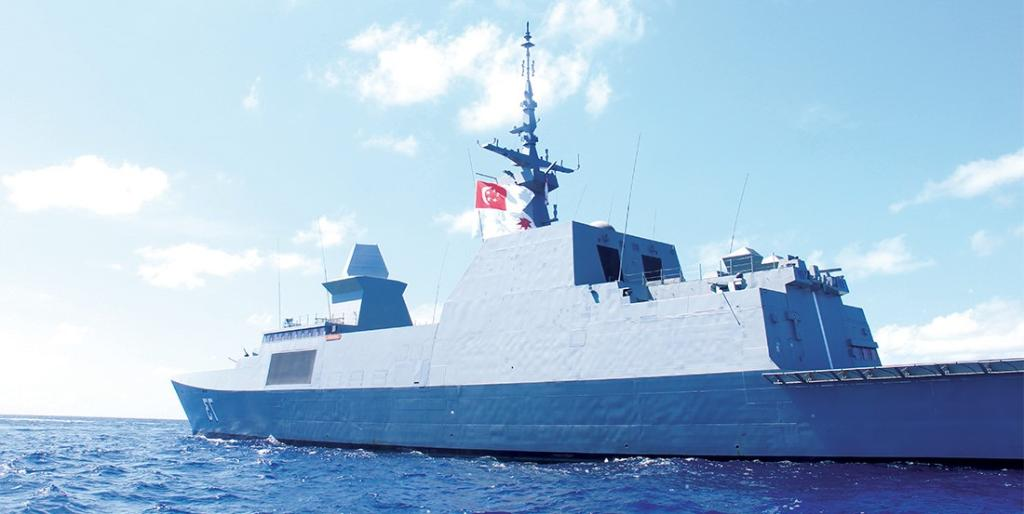Warship: (164, 16, 1024, 470)
